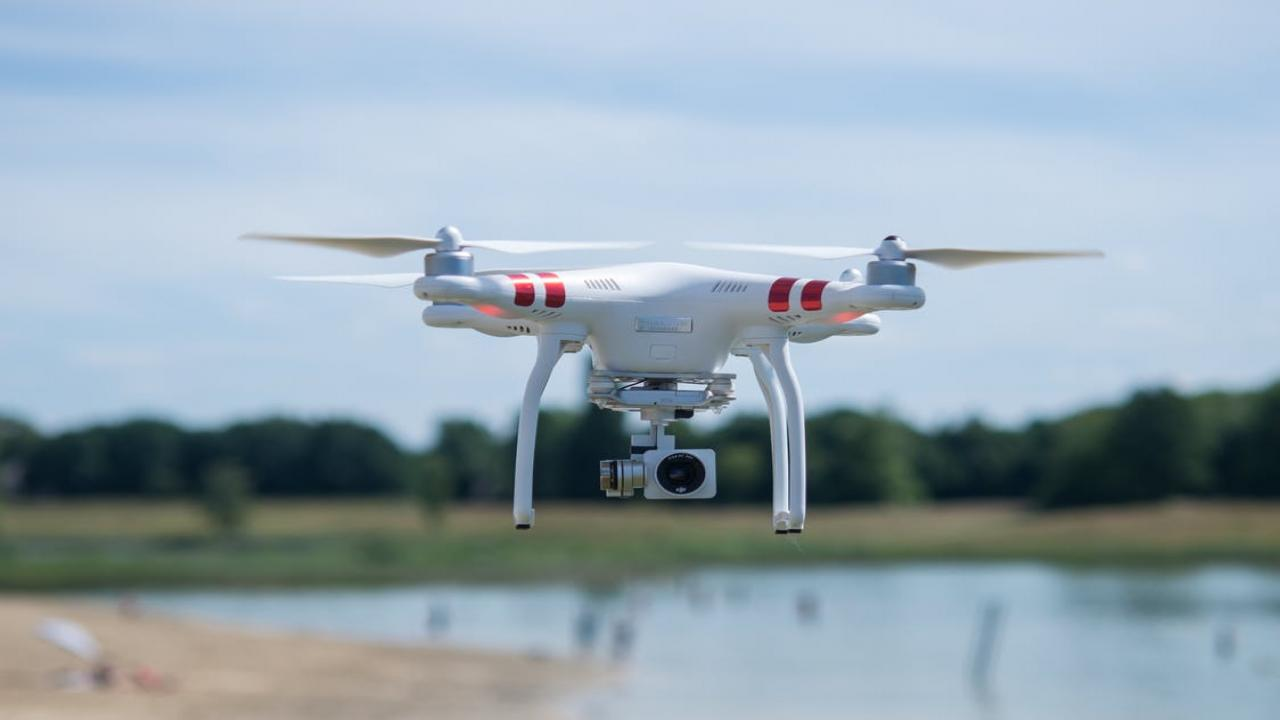Drone: (232, 218, 1118, 542)
